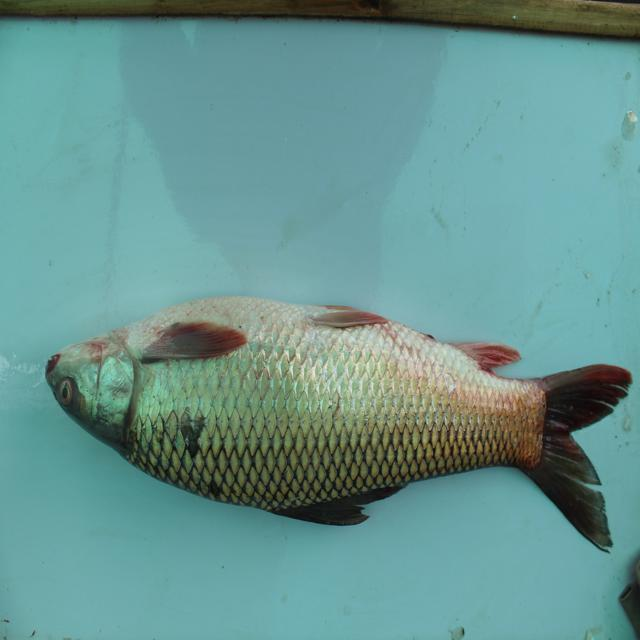Mori: (34, 295, 629, 582)
